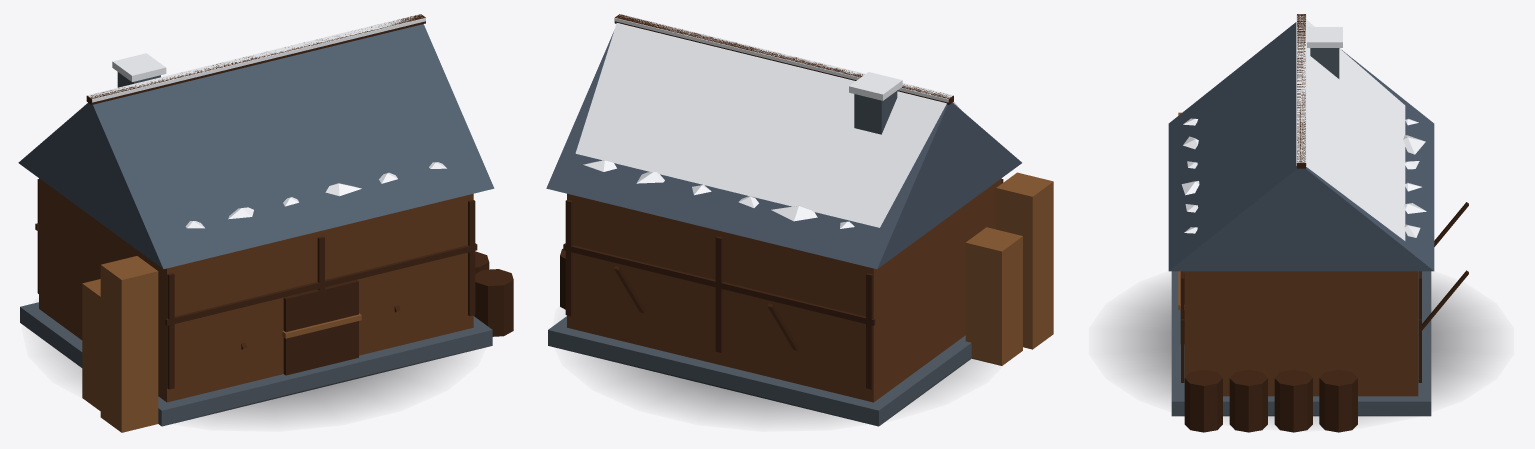
File: storehouse_t2.glb
3 renders of one model, left to right at view 1: azimuth 30°, elevation 25°; view 2: azimuth 150°, elevation 25°; view 3: azimuth 270°, elevation 25°, orthographic. The views are drawn at different scales.
Visible parts, largest first — view 1: storehouse_t2; view 2: storehouse_t2; view 3: storehouse_t2.
Part boxes in pixels (x1,y1,x2,y2): storehouse_t2: (18,14,513,432); storehouse_t2: (546,14,1053,426); storehouse_t2: (1115,14,1487,432).
Bounding box in the file's own units: 6.9 × 4.49 × 6.83.
